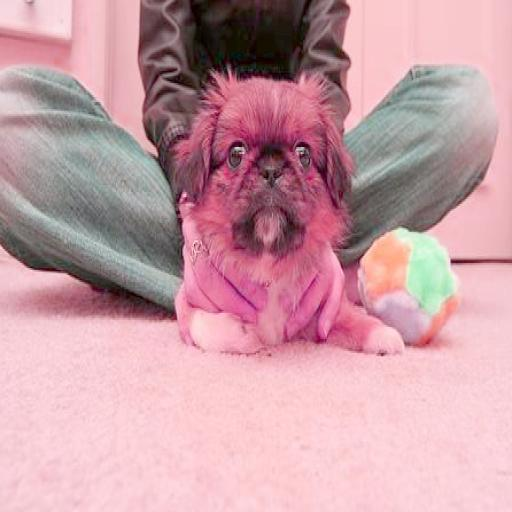dog_face: (185, 71, 352, 247)
